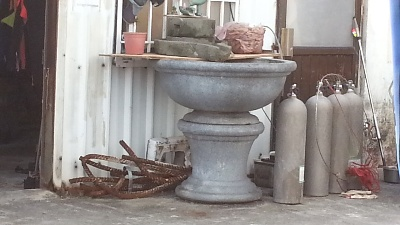bowl: (154, 49, 298, 208), (122, 31, 148, 55)
